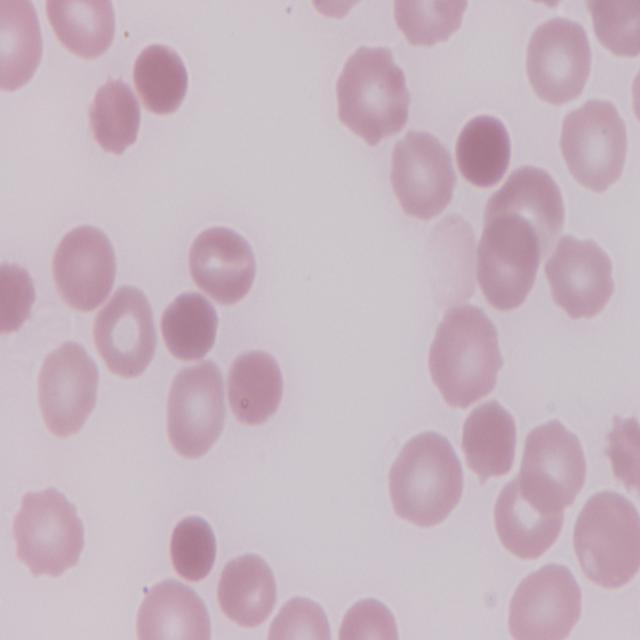RBC: (426, 304, 504, 412), (334, 40, 414, 144), (386, 429, 466, 531), (516, 418, 592, 514), (572, 486, 640, 593), (472, 211, 544, 311), (492, 472, 570, 564), (559, 94, 632, 192), (522, 12, 595, 108), (11, 486, 88, 577), (32, 336, 100, 439), (162, 358, 228, 462), (92, 284, 162, 382), (390, 129, 460, 225), (504, 560, 586, 640), (187, 220, 265, 304), (52, 220, 121, 312), (543, 232, 615, 320), (227, 344, 289, 430), (458, 398, 520, 482), (134, 577, 215, 640), (219, 554, 283, 632), (45, 0, 117, 62), (0, 0, 45, 97), (392, 0, 470, 49), (601, 407, 640, 499), (266, 592, 335, 640), (336, 594, 406, 640), (586, 2, 638, 62)
Spherocyte: (157, 286, 220, 366), (451, 107, 513, 188), (127, 42, 188, 117), (168, 514, 218, 584)
